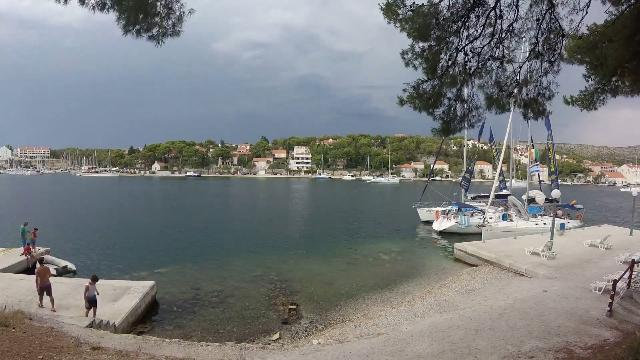Sailboat: (364, 173, 404, 185)
